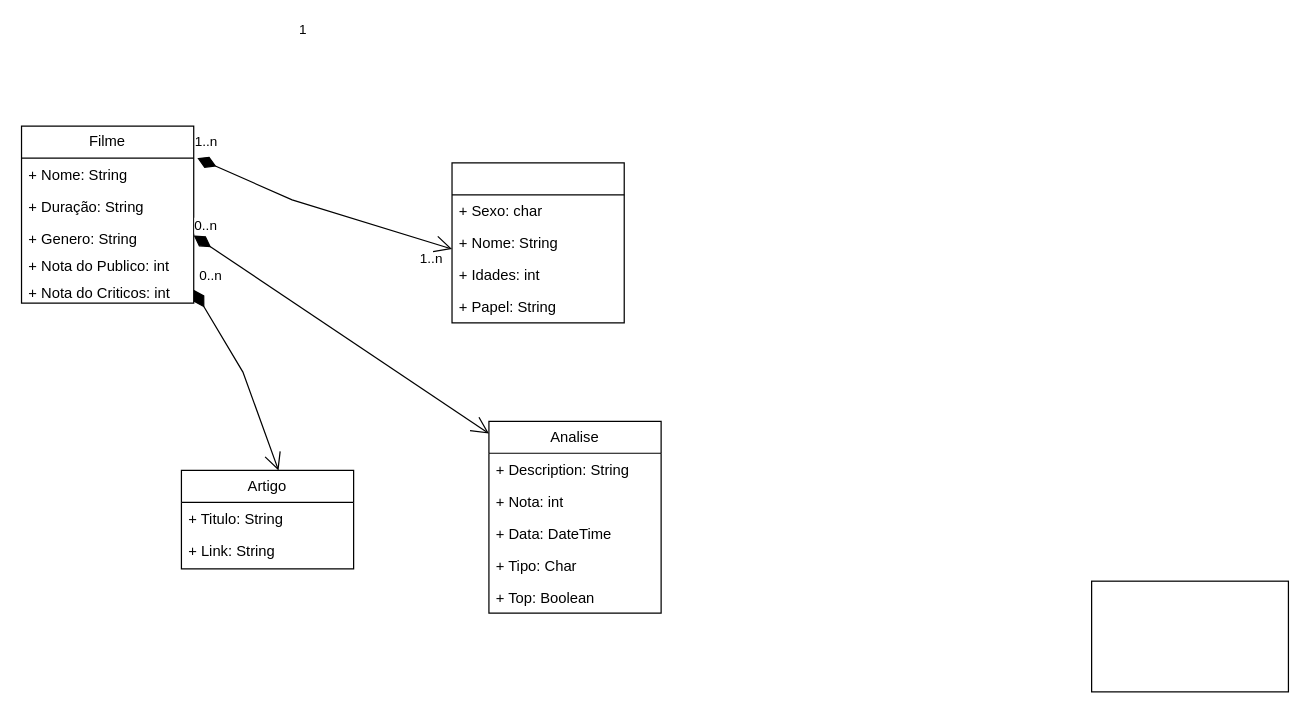
Image size: 1310x713. Some labels were removed from this diagram. The shapes that lost their labels are listed below. From the top down, each one's box as (x1, y1, x2, y2) in pixels, then its label:
(451, 162, 624, 323): Ator
(1090, 580, 1288, 692): Object:Type field1 = value1 field2 = value2 field3 = value3
